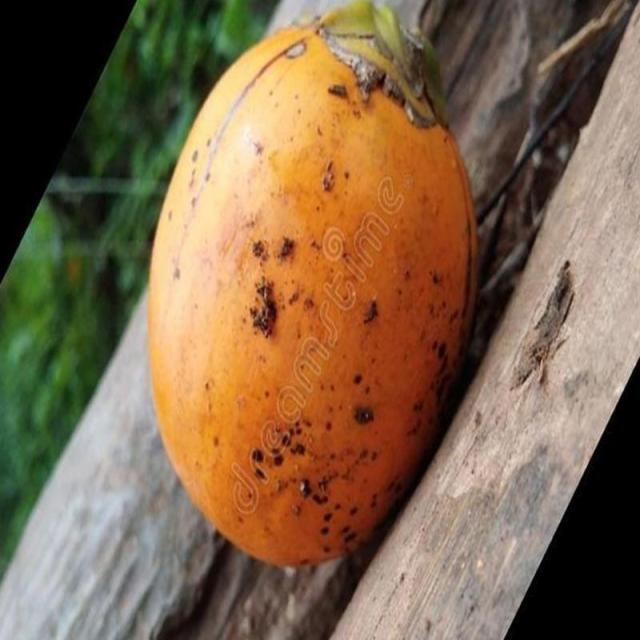good: (145, 0, 478, 572)
